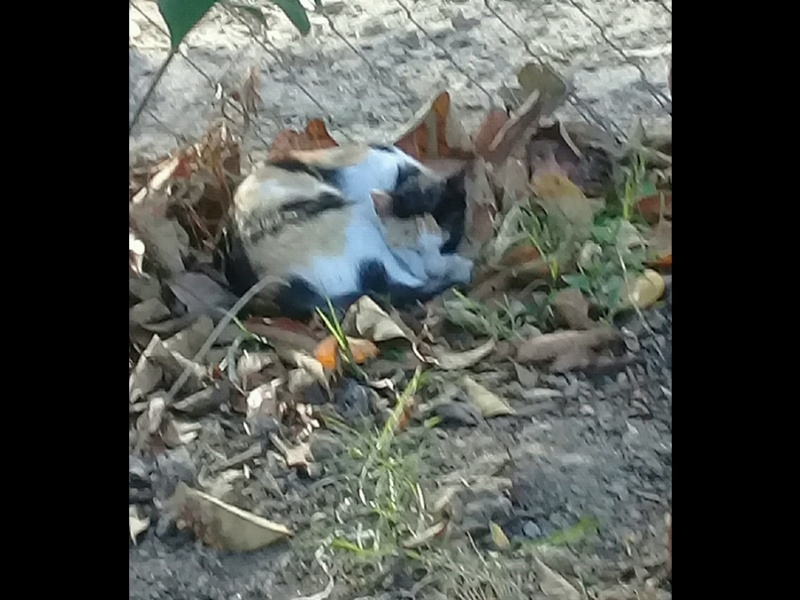cat: (222, 139, 479, 318)
